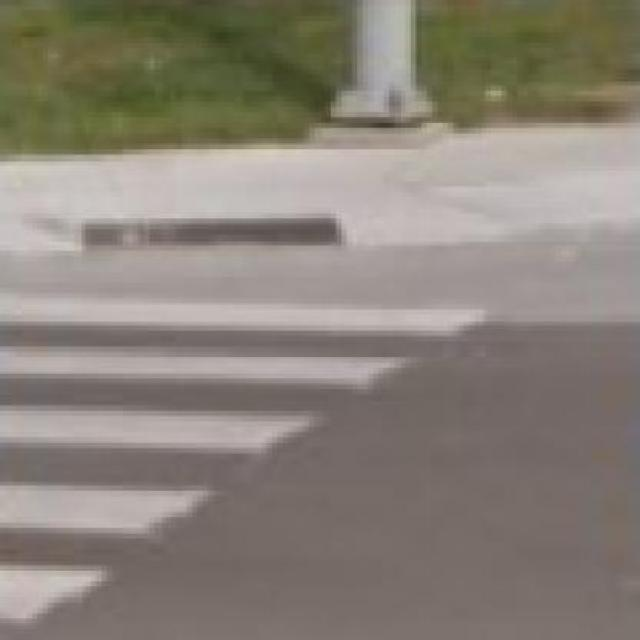crosswalk: (0, 293, 491, 625)
